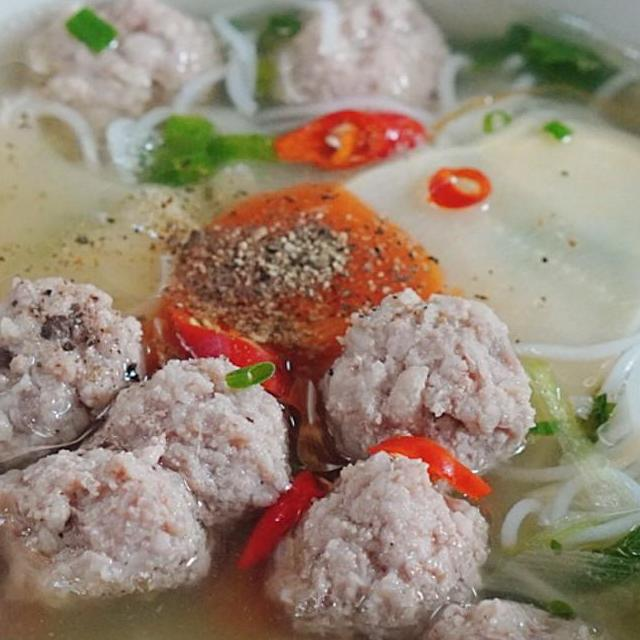bun: (480, 324, 640, 611)
vien moc: (302, 280, 542, 480), (249, 445, 491, 640), (0, 434, 215, 609), (98, 347, 306, 526), (12, 0, 229, 150), (0, 271, 154, 455), (254, 0, 471, 125), (398, 592, 633, 640)
